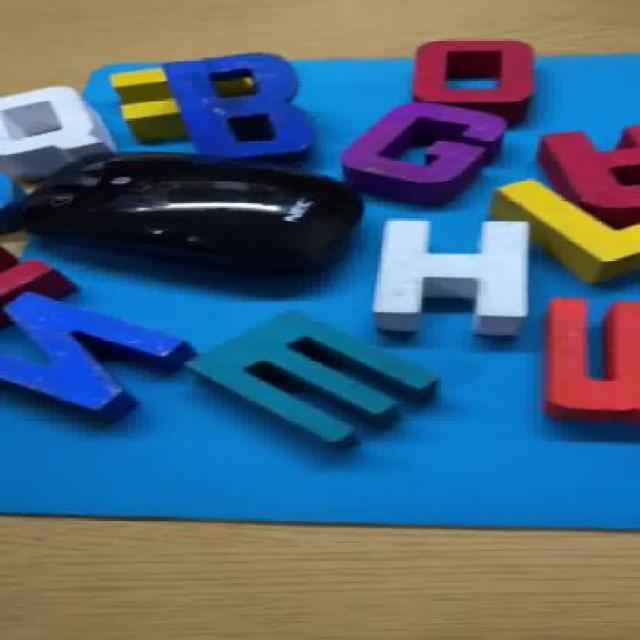B: (170, 55, 312, 170)
G: (334, 101, 523, 202)
H: (366, 218, 531, 342)
M: (183, 308, 434, 447)
O: (395, 35, 536, 114)
Q: (0, 84, 112, 175)
